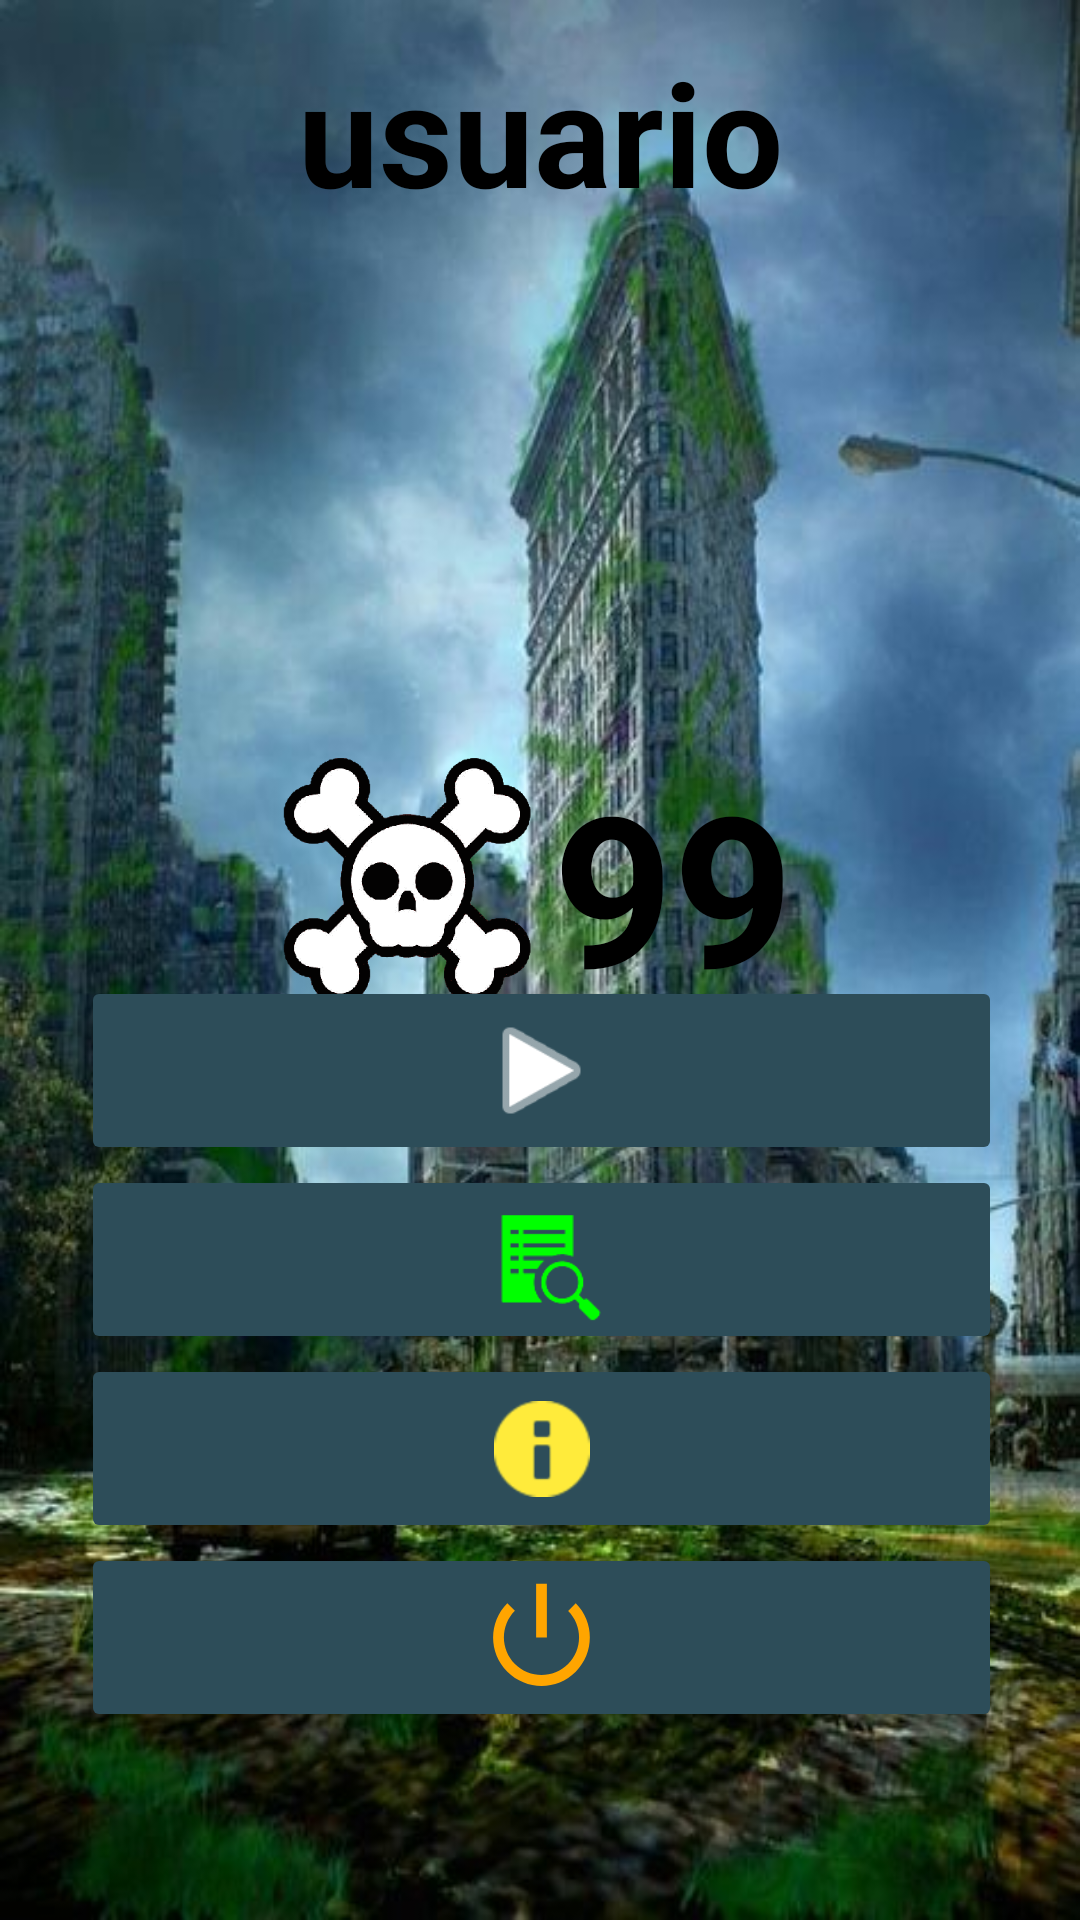

Named icons in this screenshot (1080 × 1920) and their centers, (x=x, y=y):
calabera: (x=407, y=881)
